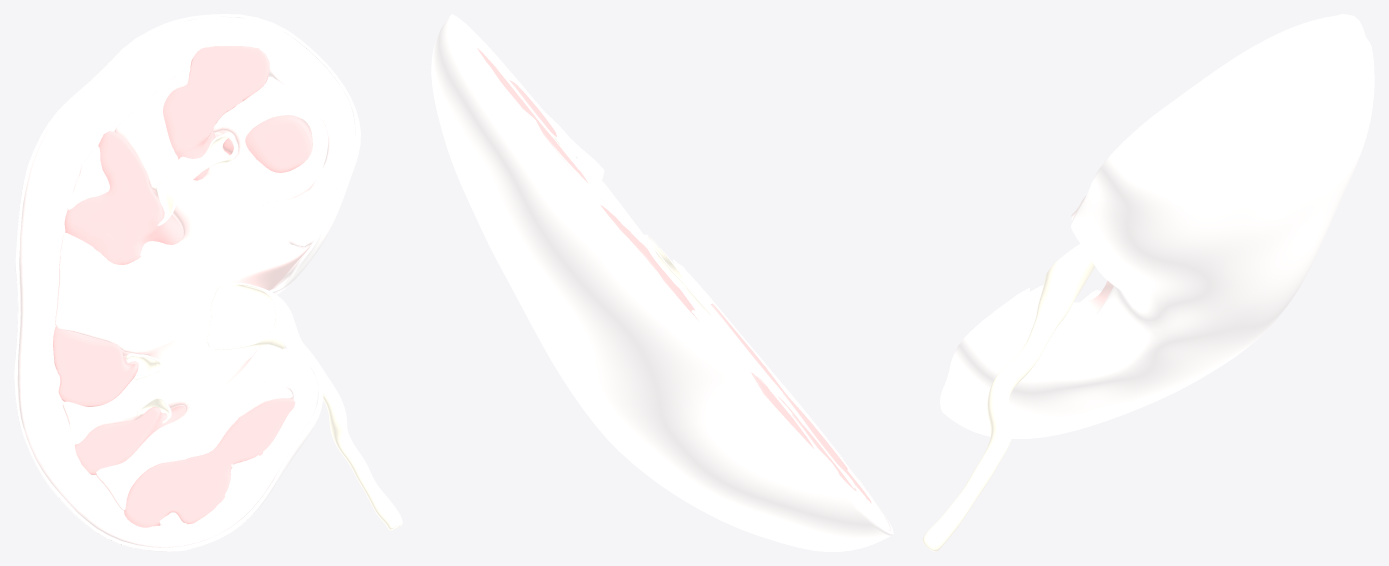
Rendered from VHF_Kidney_R_Bisected_Posterior.glb.
3 views of the same model, side by side, from view 1: azimuth 30°, elevation 25°; view 2: azimuth 150°, elevation 25°; view 3: azimuth 270°, elevation 25° (orthographic). The views are drawn at different scales.
Parts seen in each view (by area): view 1: VHF_Kidney_R_RenalColumns_Posterior, VHF_Kidney_R_OuterCortex_Posterior, VHF_Kidney_R_Pyramids_Posterior, VHF_Kidney_R_Calyses_Posterior, VHF_Kidney_R_Capsule_Posterior; view 2: VHF_Kidney_R_Capsule_Posterior, VHF_Kidney_R_OuterCortex_Posterior, VHF_Kidney_R_RenalColumns_Posterior, VHF_Kidney_R_Pyramids_Posterior, VHF_Kidney_R_Calyses_Posterior; view 3: VHF_Kidney_R_Capsule_Posterior, VHF_Kidney_R_Calyses_Posterior, VHF_Kidney_R_RenalColumns_Posterior.
Boxes of the visible parts, x1=… form: VHF_Kidney_R_RenalColumns_Posterior: x1=55, y1=65, x2=328, y2=525; VHF_Kidney_R_OuterCortex_Posterior: x1=17, y1=17, x2=355, y2=547; VHF_Kidney_R_Pyramids_Posterior: x1=53, y1=46, x2=312, y2=527; VHF_Kidney_R_Calyses_Posterior: x1=126, y1=132, x2=402, y2=530; VHF_Kidney_R_Capsule_Posterior: x1=14, y1=14, x2=360, y2=551; VHF_Kidney_R_Capsule_Posterior: x1=431, y1=14, x2=893, y2=551; VHF_Kidney_R_OuterCortex_Posterior: x1=454, y1=17, x2=891, y2=530; VHF_Kidney_R_RenalColumns_Posterior: x1=491, y1=62, x2=865, y2=497; VHF_Kidney_R_Pyramids_Posterior: x1=477, y1=48, x2=871, y2=502; VHF_Kidney_R_Calyses_Posterior: x1=551, y1=136, x2=792, y2=414; VHF_Kidney_R_Capsule_Posterior: x1=940, y1=14, x2=1374, y2=438; VHF_Kidney_R_Calyses_Posterior: x1=922, y1=244, x2=1101, y2=551; VHF_Kidney_R_RenalColumns_Posterior: x1=1023, y1=280, x2=1113, y2=342.
Size of the model in its own units: 0.8047 by 1 by 0.8002.
